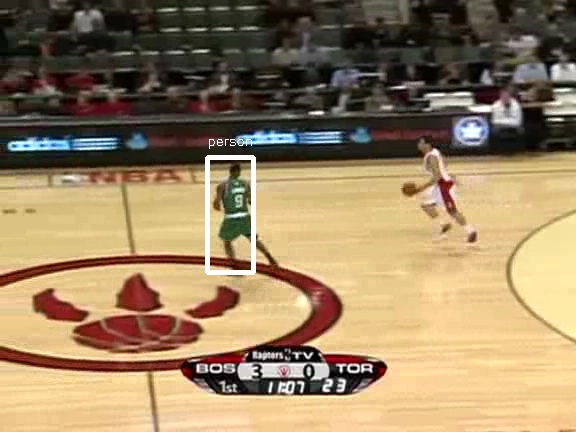person: (223, 168, 257, 249), (222, 168, 256, 249), (224, 168, 258, 249), (223, 167, 257, 248), (223, 169, 257, 250)
target_negative: (117, 315, 507, 426), (365, 216, 509, 395), (111, 161, 211, 360), (409, 41, 474, 312), (53, 340, 132, 362), (517, 346, 555, 373)
